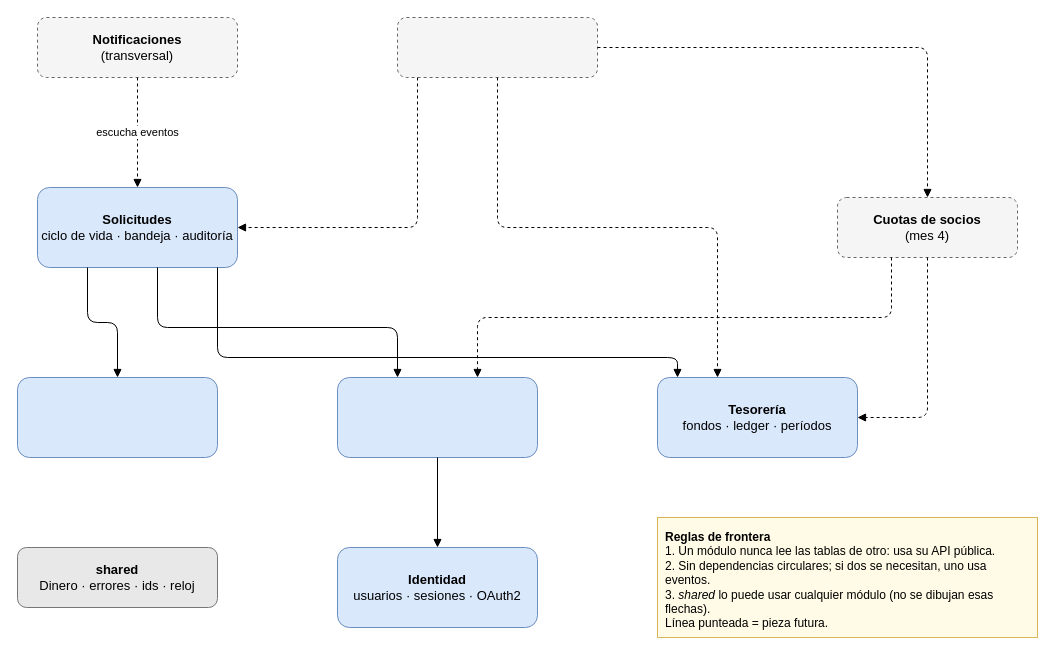
The diagram is 1055 pixels wide and 655 high, and some of its shapes have lost their labels. The box of each missing label's shape, as (x1, y1, x2, y2) in pixels:
Comprobantes archivos · hash · URLs firmadas: (16, 376, 218, 458)
Conciliación (mes 5+): (396, 16, 598, 78)
Organizaciones membresías · roles: (336, 376, 538, 458)
